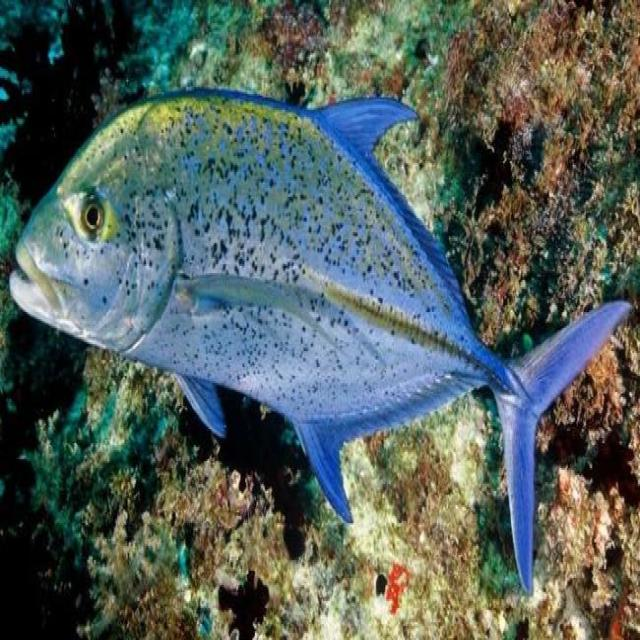ikan: (8, 83, 632, 594)
